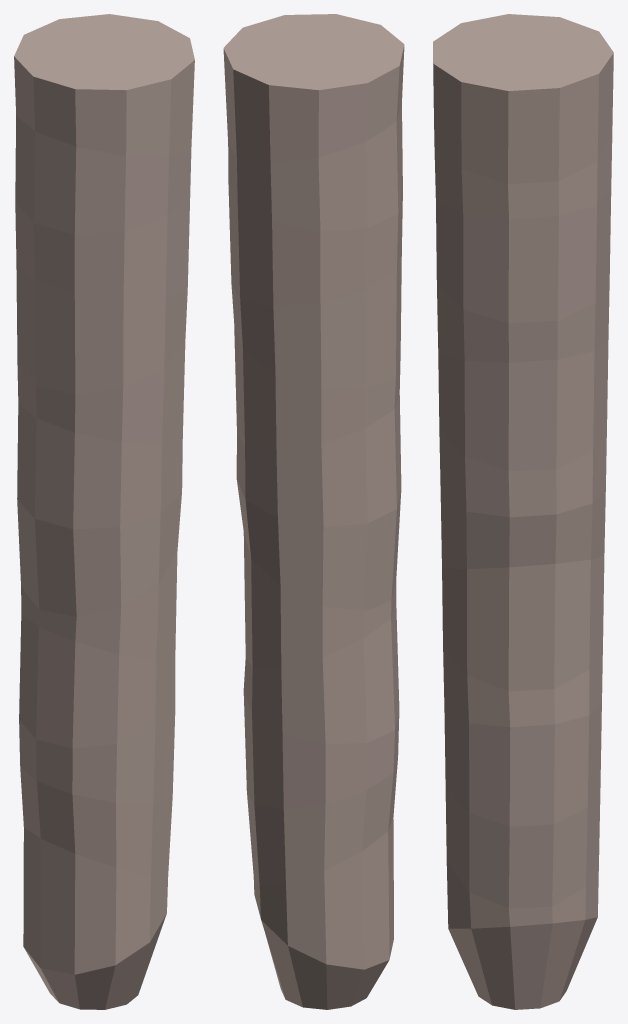
The picture shows the model from 3 angles, left to right: view 1: azimuth 30°, elevation 25°; view 2: azimuth 150°, elevation 25°; view 3: azimuth 270°, elevation 25°; orthographic projection.
Parts seen in each view (by area): view 1: Cylinder; view 2: Cylinder; view 3: Cylinder.
Part boxes in pixels (left/top/right/bottom): Cylinder: left=14, top=14, right=194, bottom=1009; Cylinder: left=223, top=14, right=404, bottom=1009; Cylinder: left=433, top=14, right=613, bottom=1009.
Size of the model in its own units: 7.36 by 42 by 7.29.
